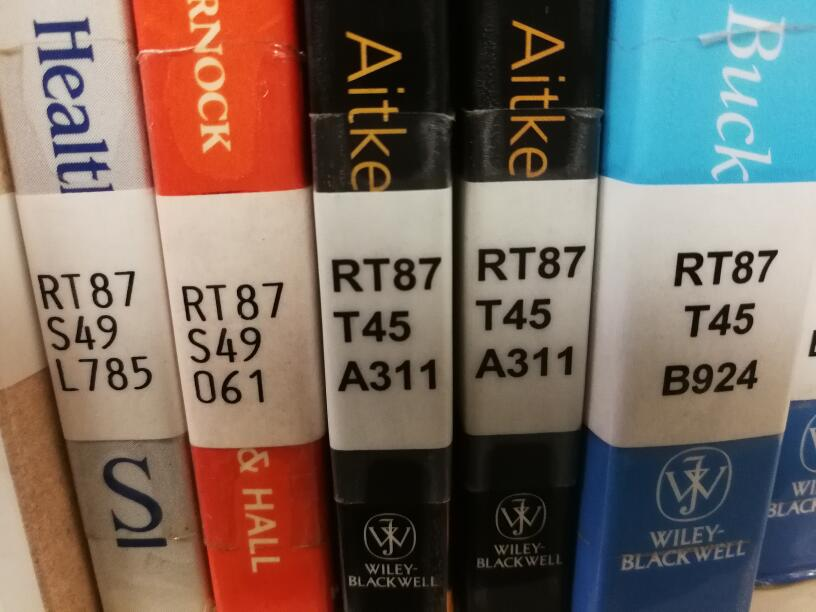booklabel: (659, 247, 779, 398), (33, 267, 159, 394), (328, 254, 443, 392), (472, 244, 587, 380), (179, 279, 289, 405)
